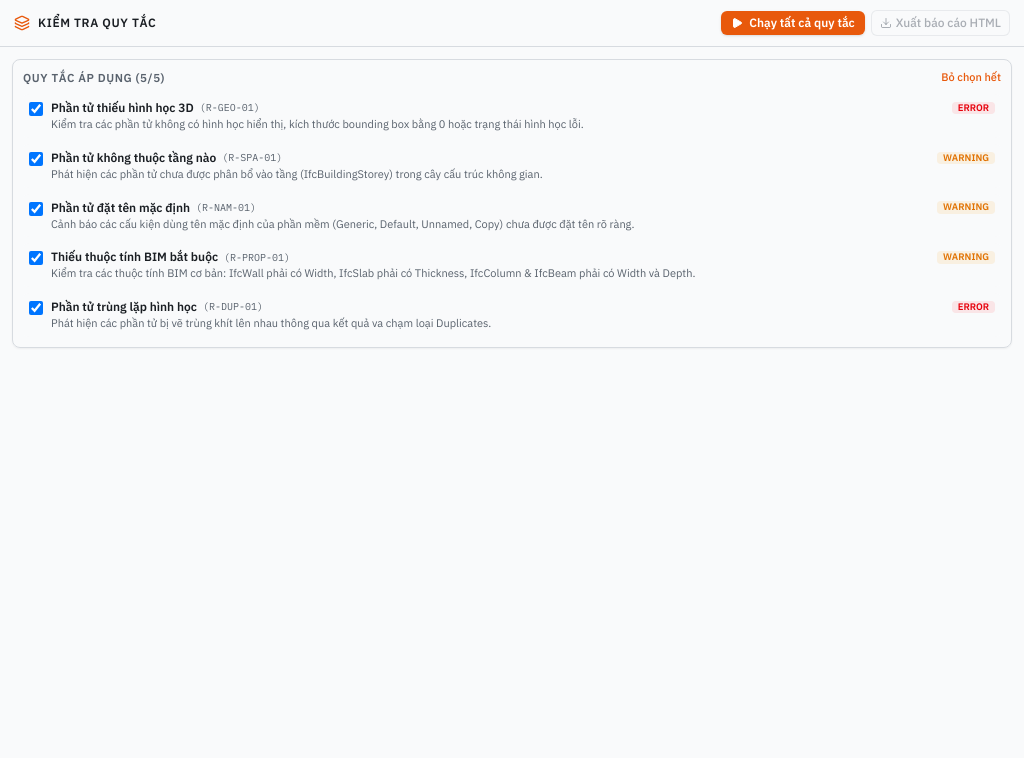
it: RulePanel Component › filters issues by severity and search query
Click the button with test id "run-rules-btn". click: (793, 23)
box: [721,11,865,35]
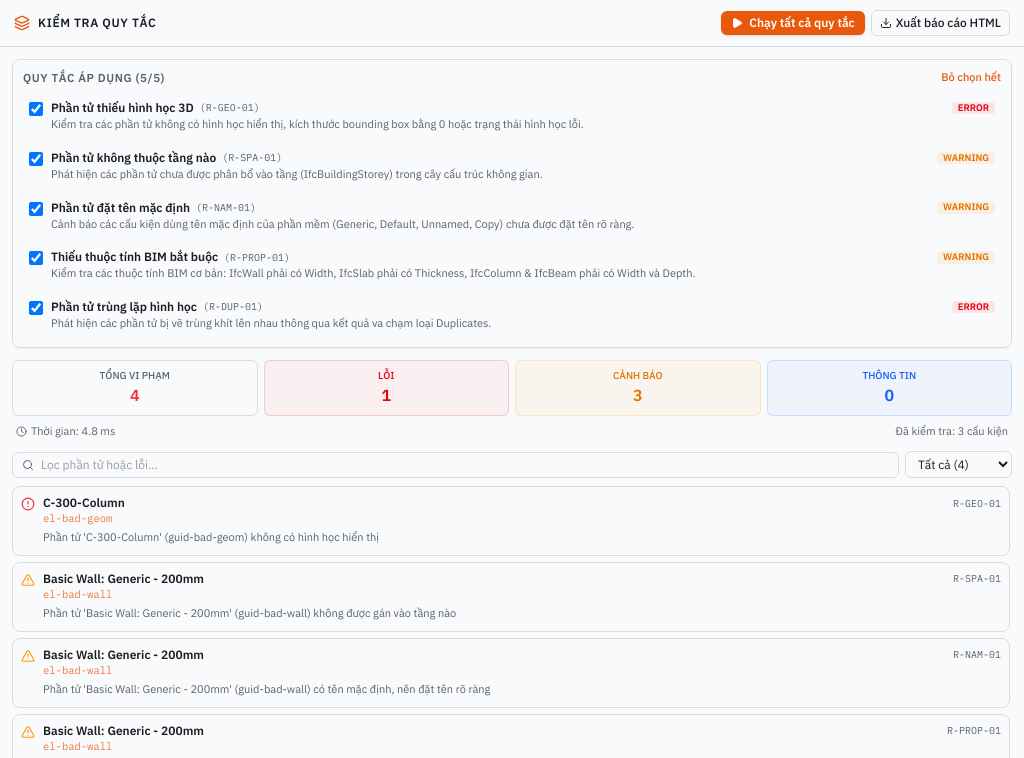
Now the text "4" is shown, box [130,385,140,405]
Note: Filter by Error only
Select "Lỗi (1)" in the dropdown with test id "rule-severity-filter". click: (958, 465)
box: [905,451,1012,478]
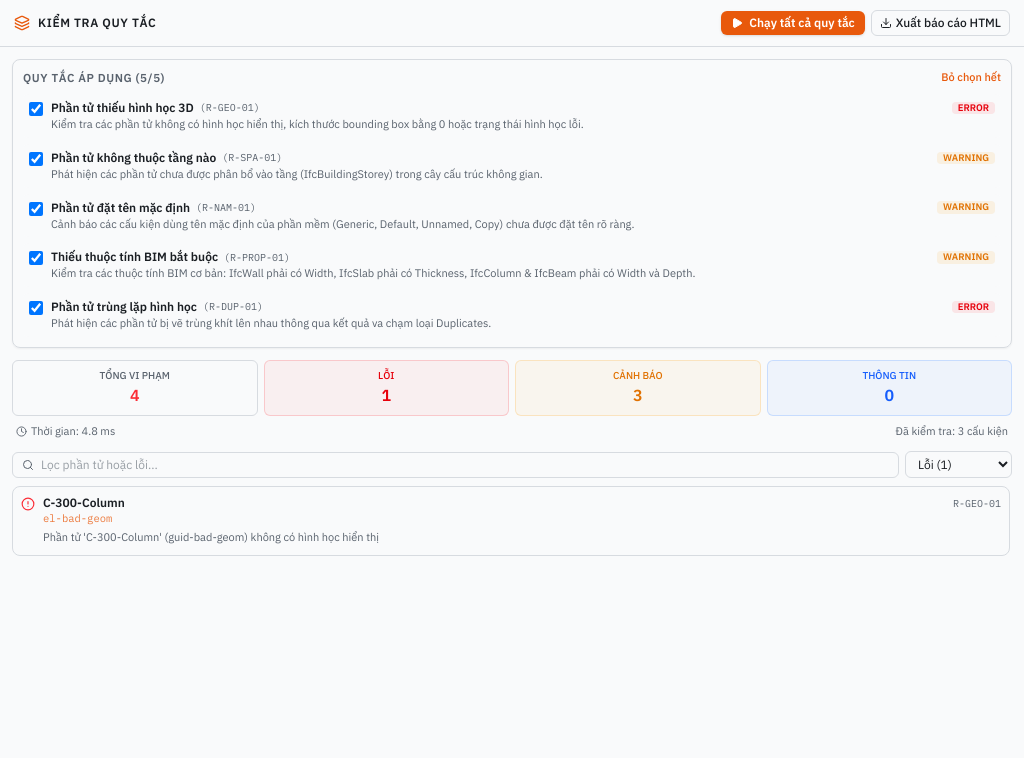
Now the text "C-300-Column" is shown, box [43,495,125,511]
Now the text "Basic Wall: Generic - 200mm" is gone
Note: Reset severity and search by keyword
Select "Tất cả (4)" in the dropdown with test id "rule-severity-filter". click: (958, 465)
box: [905,451,1012,478]
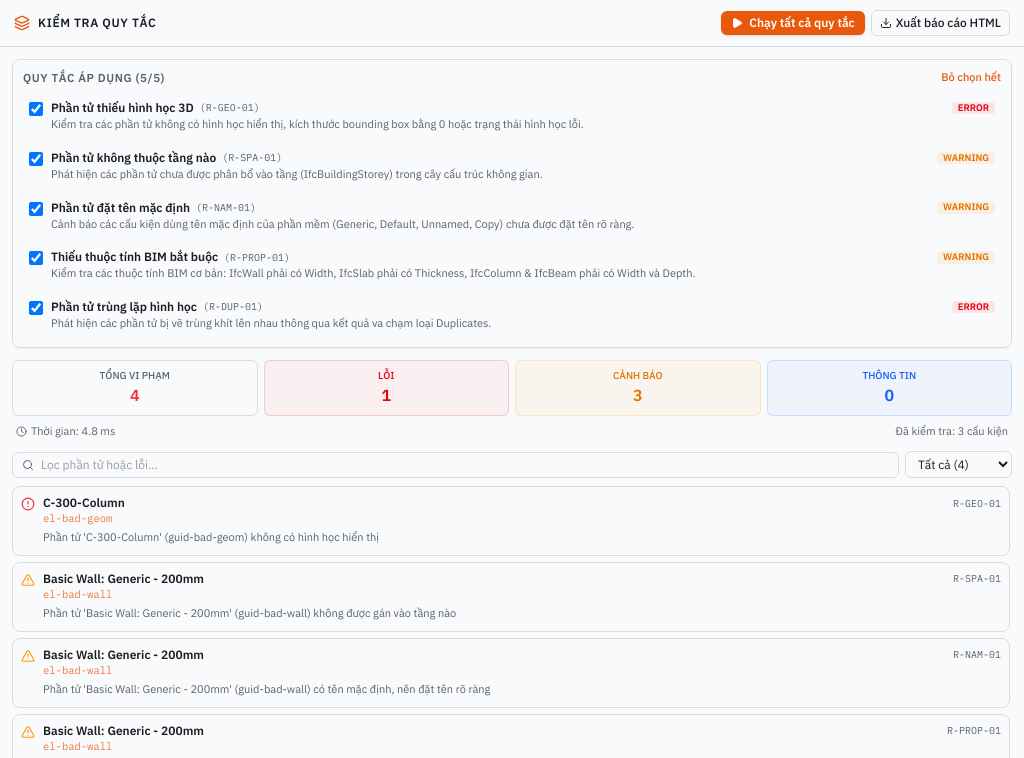
Type "Generic" into the field with test id "rule-search-input". click: (456, 465)
box: [12,452,899,478]
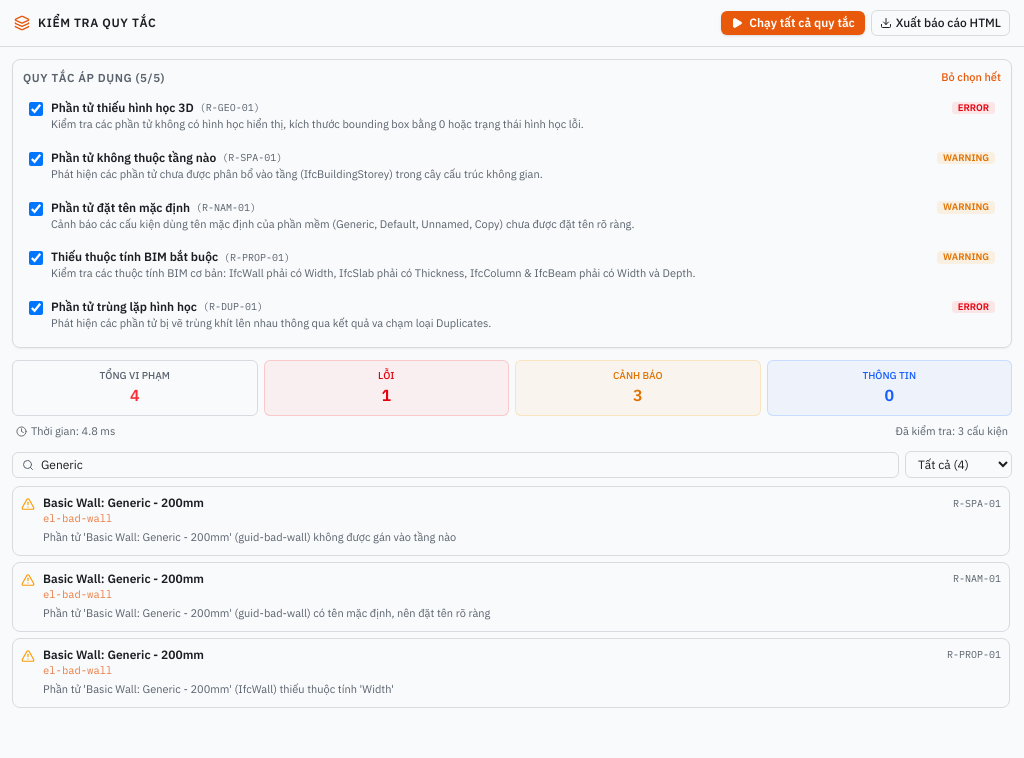
Now the 1st text "Basic Wall: Generic - 200mm" is shown, box [43,495,204,511]
Now the text "C-300-Column" is gone
